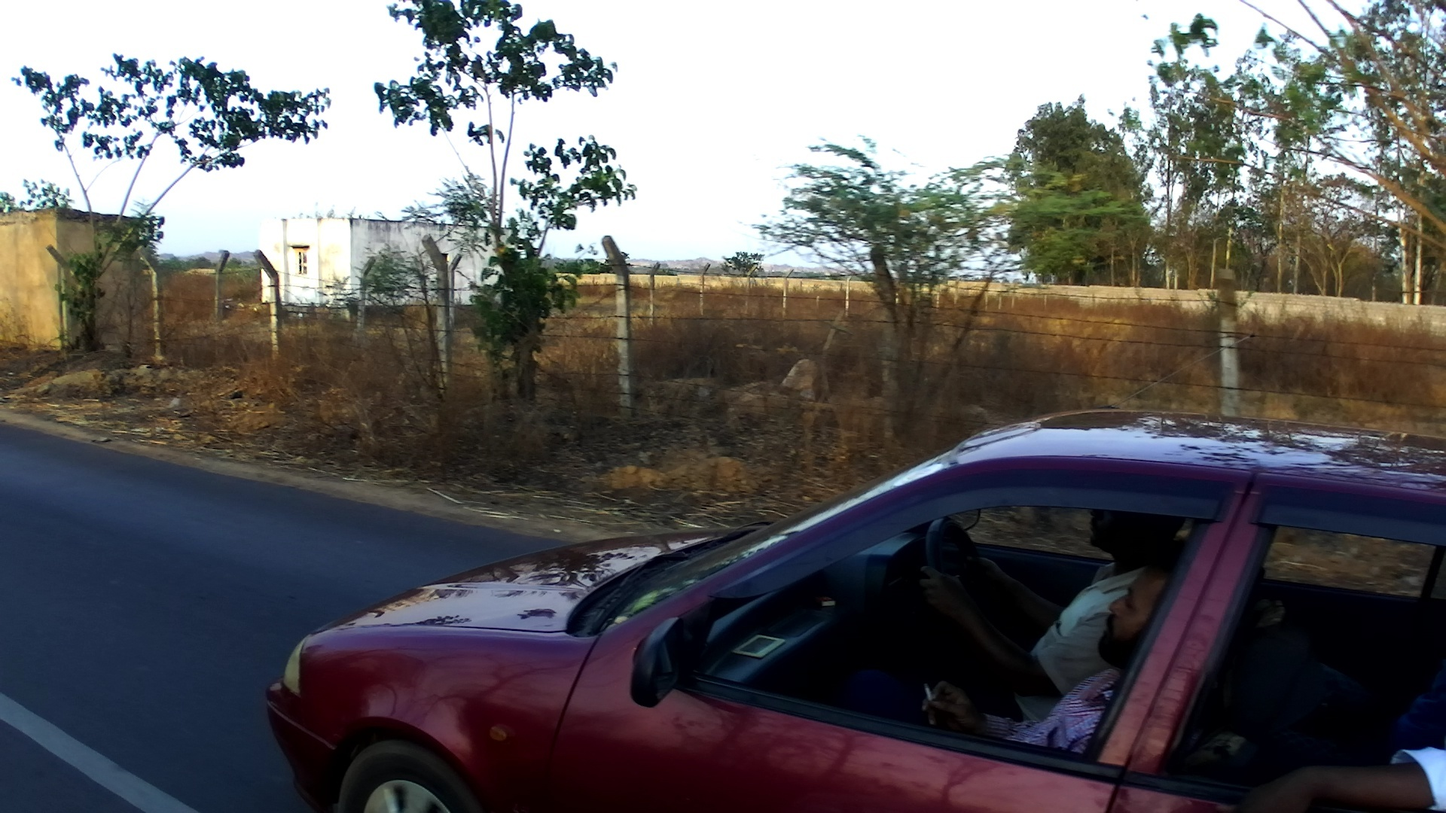car: (264, 412, 1446, 813)
